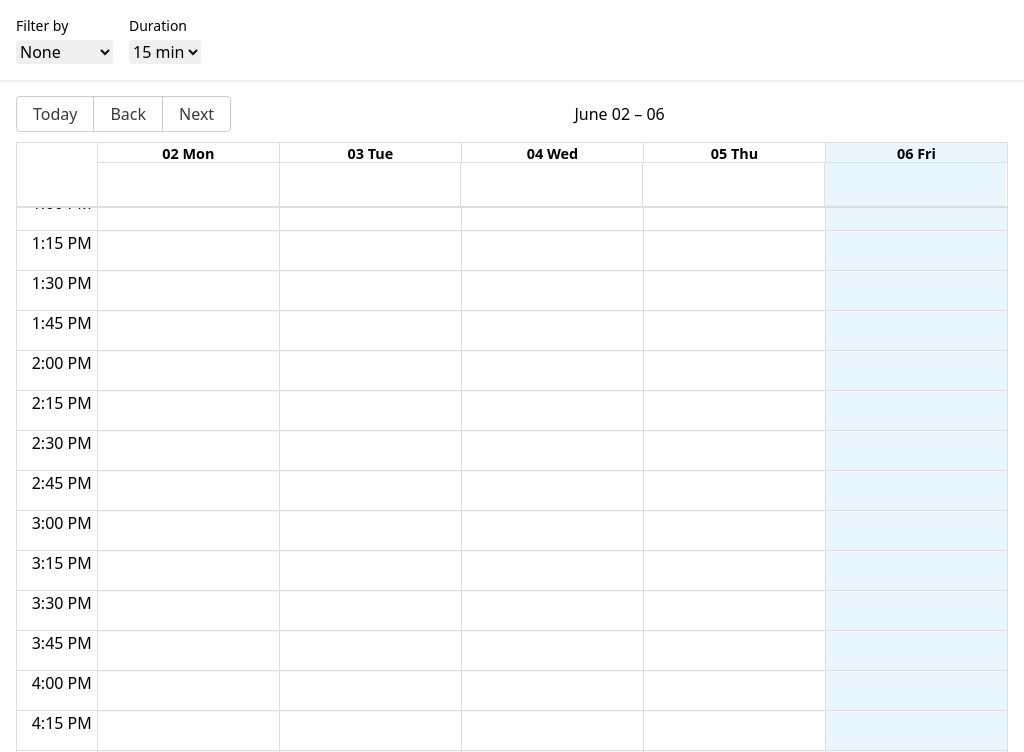
Test: <App /> › shows candidate dropdown when filter type is candidate
The width and height of the screenshot is (1024, 752).
(page scrolled)
Select "Candidate" in the dropdown labelled "Filter by" at (64, 52), box [16,40,113,64]
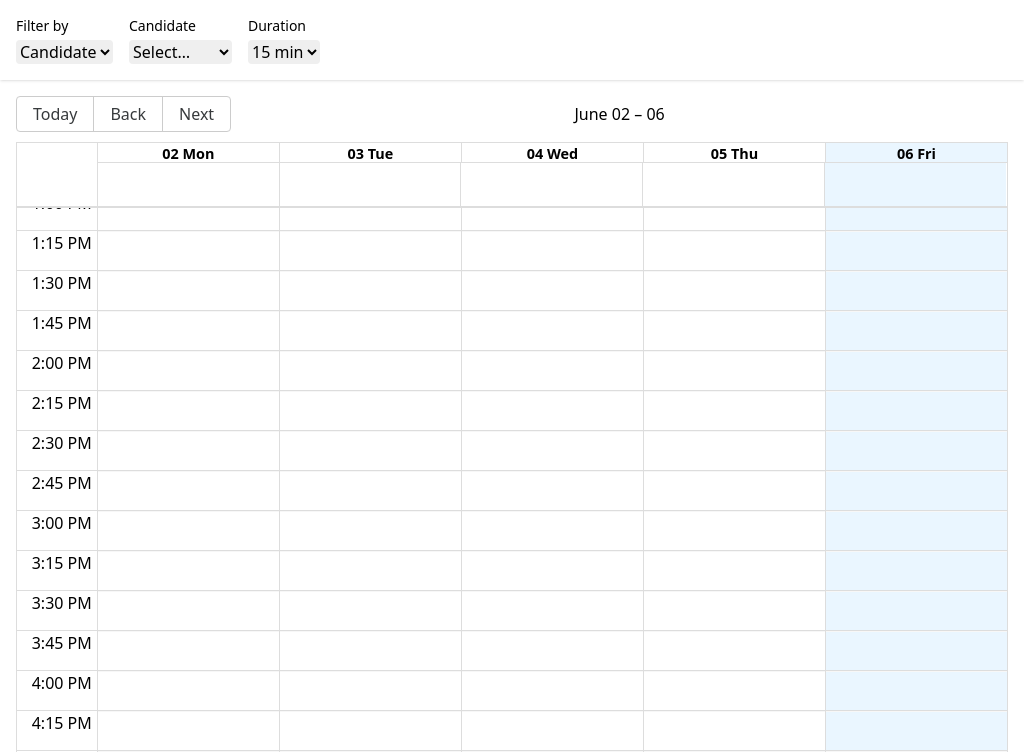
Check: the dropdown labelled "Candidate" is shown, box [129,40,232,64]
